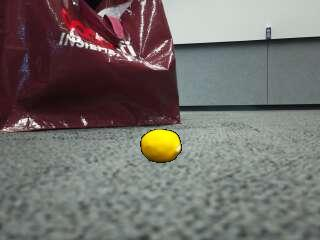lemon: (140, 130, 180, 163)
